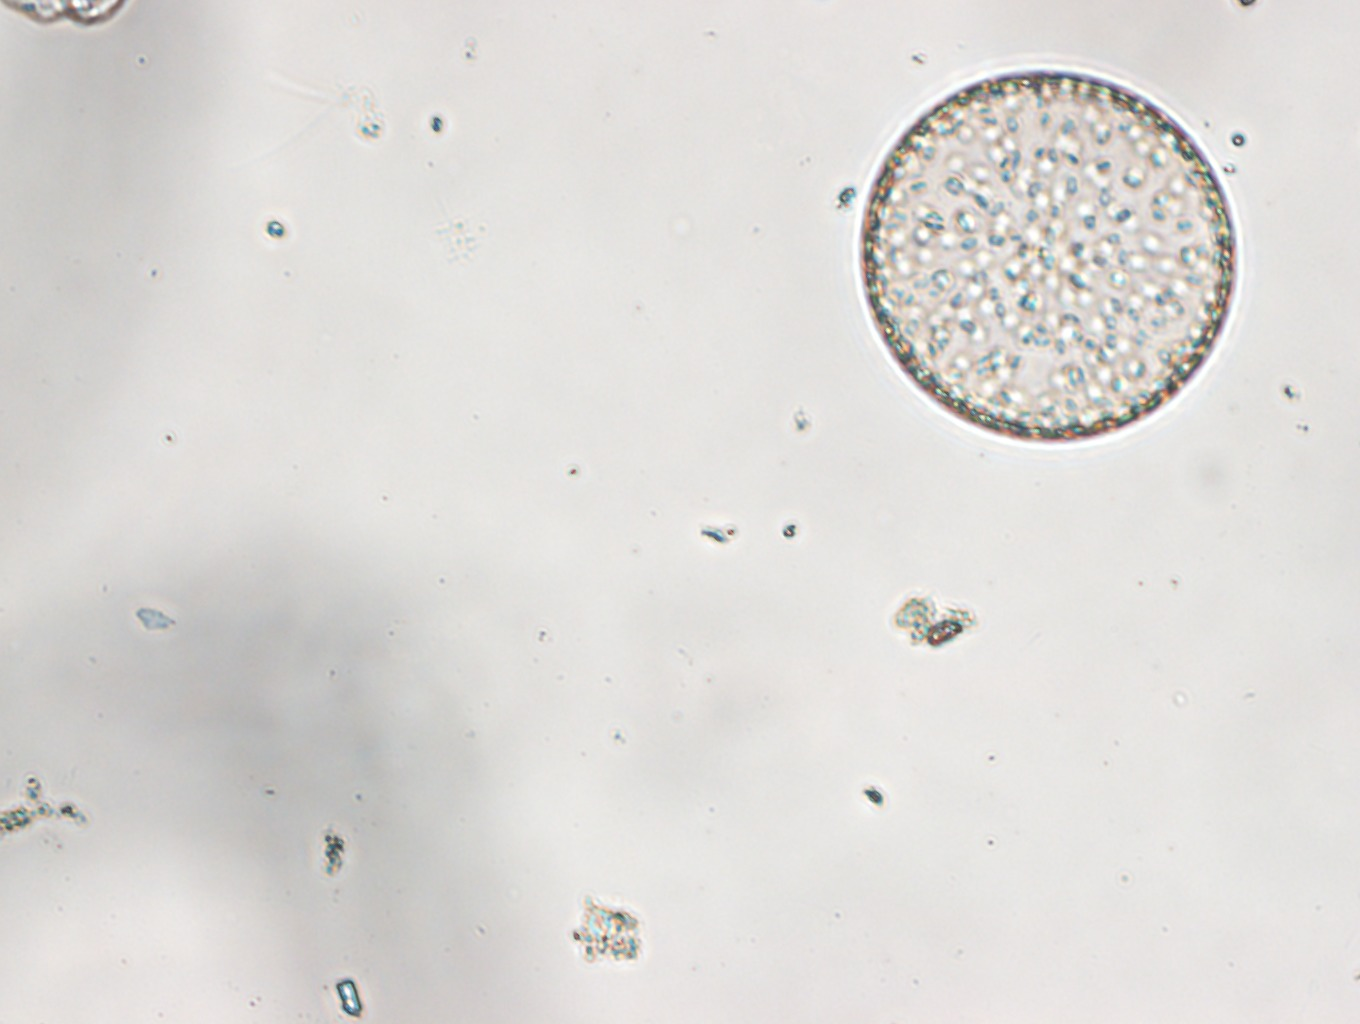coscinodiscus: (853, 66, 1242, 449)
